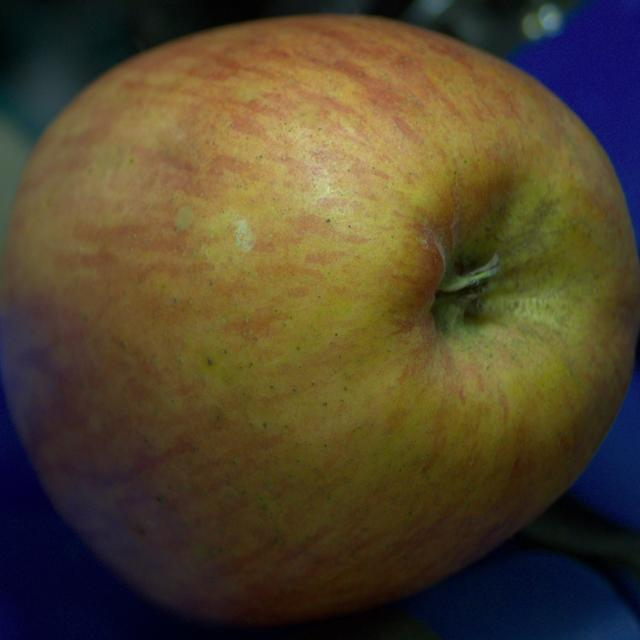apple: (0, 16, 639, 626)
